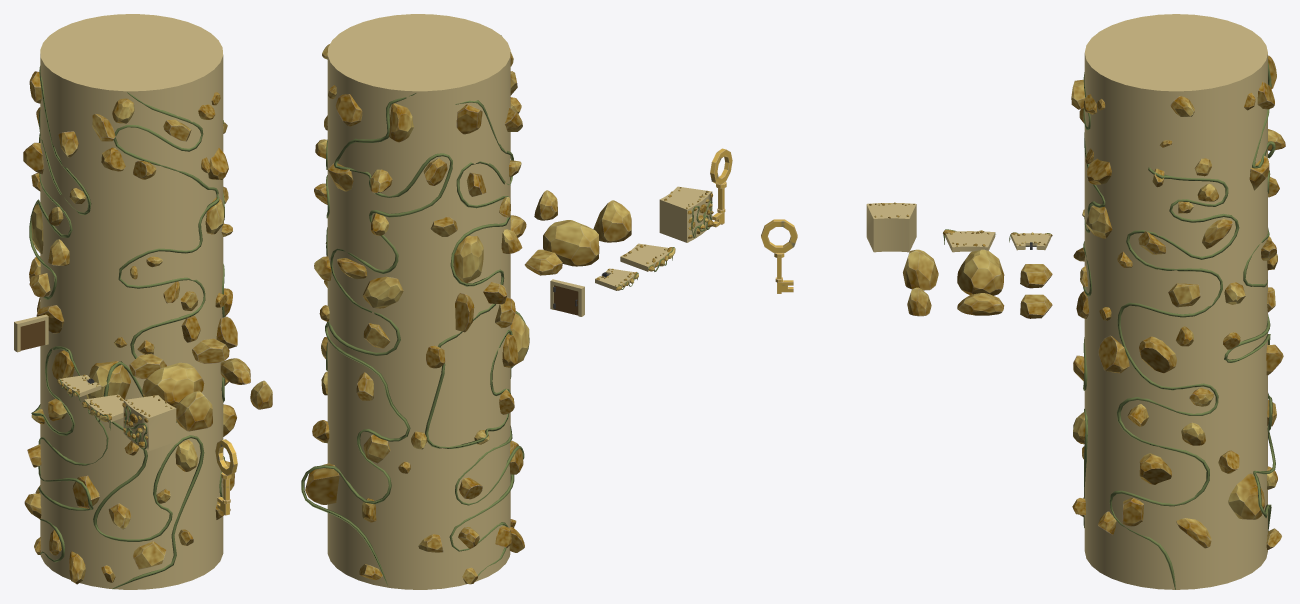
The model's file is spire_maze_v3.fbx.
3 views of the same model, side by side, from view 1: azimuth 30°, elevation 25°; view 2: azimuth 150°, elevation 25°; view 3: azimuth 270°, elevation 25° (orthographic).
Parts seen in each view (by area): view 1: Base_cylinder, Retopo_BezierCurve.002, Big_plate_wall, Stone_2, Stone_1, Icosphere.230, Key, Stone_6, Sphere.120, Stone_5, Mid_static_plate, Stone_3 (+24 smaller); view 2: Base_cylinder, Retopo_BezierCurve.002, Big_plate_wall, Stone_2, Stone_1, Icosphere.194, Icosphere.206, Icosphere.170, Key, Mid_static_plate, Icosphere.254, Stone_3 (+5 smaller); view 3: Base_cylinder, Retopo_BezierCurve.002, Big_plate_wall, Stone_2, Stone_1, Icosphere.206, Key, Icosphere.222, Mid_static_plate, Icosphere.155, Stone_5, Icosphere.115.
Part boxes in pixels (<box>): Base_cylinder: <box>40,14,223,589</box>; Retopo_BezierCurve.002: <box>29,66,225,589</box>; Big_plate_wall: <box>123,395,176,451</box>; Stone_2: <box>142,362,204,406</box>; Stone_1: <box>176,390,212,431</box>; Icosphere.230: <box>86,361,130,399</box>; Key: <box>215,439,237,515</box>; Stone_6: <box>192,338,229,363</box>; Sphere.120: <box>132,541,166,569</box>; Stone_5: <box>220,358,250,384</box>; Mid_static_plate: <box>84,394,123,422</box>; Stone_3: <box>129,353,166,379</box>; Base_cylinder: <box>327,14,510,589</box>; Retopo_BezierCurve.002: <box>301,35,529,585</box>; Big_plate_wall: <box>659,186,712,242</box>; Stone_2: <box>543,220,599,266</box>; Stone_1: <box>593,200,631,242</box>; Icosphere.194: <box>453,236,483,283</box>; Icosphere.206: <box>305,463,339,504</box>; Icosphere.170: <box>362,276,403,308</box>; Key: <box>710,148,732,227</box>; Mid_static_plate: <box>620,243,668,271</box>; Icosphere.254: <box>388,103,413,142</box>; Stone_3: <box>524,249,562,275</box>; Base_cylinder: <box>1084,14,1267,589</box>; Retopo_BezierCurve.002: <box>1083,60,1275,589</box>; Big_plate_wall: <box>866,203,916,252</box>; Stone_2: <box>957,249,1004,295</box>; Stone_1: <box>903,249,938,290</box>; Icosphere.206: <box>1228,473,1264,519</box>; Key: <box>761,219,797,293</box>; Icosphere.222: <box>1139,336,1176,373</box>; Mid_static_plate: <box>945,231,995,252</box>; Icosphere.155: <box>1098,335,1129,373</box>; Stone_5: <box>957,293,1004,315</box>; Icosphere.115: <box>1139,453,1171,484</box>.
Bounding box in the file's own units: 1480 × 3003 × 2863.
Materials: 11 (7 with a texture image).
